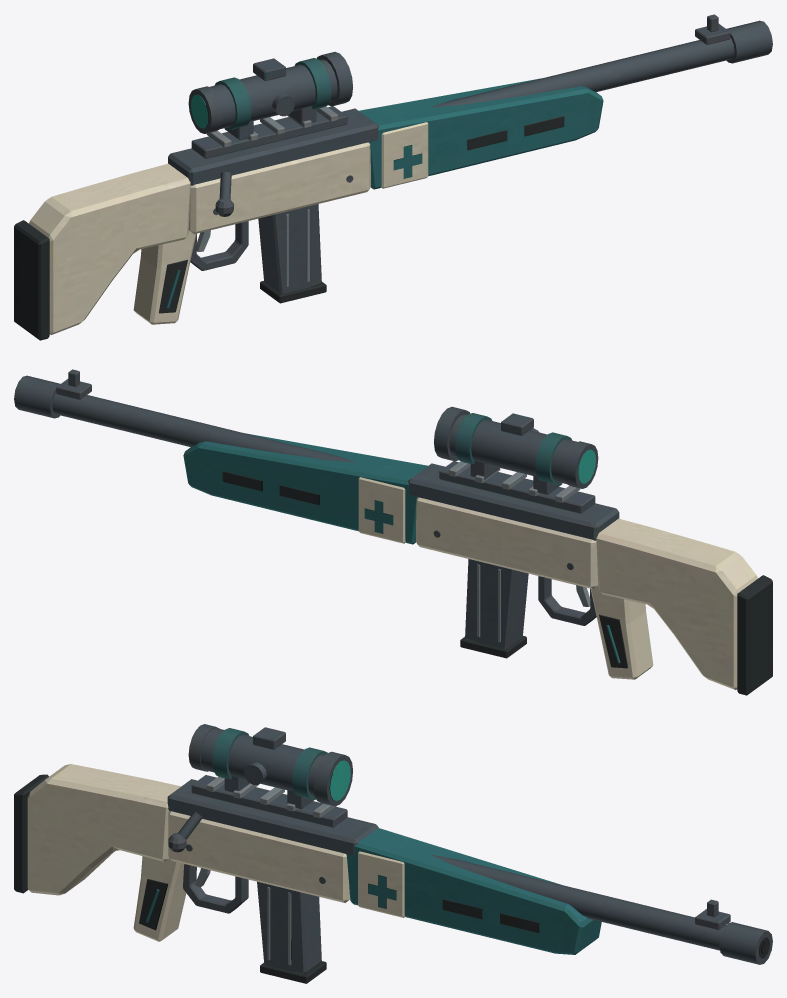
The model's file is security_rifle.glb.
3 views of the same model, one above another, from view 1: azimuth 30°, elevation 25°; view 2: azimuth 150°, elevation 25°; view 3: azimuth 330°, elevation 25° (orthographic).
Parts seen in each view (by area): view 1: SecurityRifle_Mesh; view 2: SecurityRifle_Mesh; view 3: SecurityRifle_Mesh.
Part boxes in pixels (left/top/right/bottom): SecurityRifle_Mesh: left=14, top=14, right=772, bottom=340; SecurityRifle_Mesh: left=14, top=369, right=772, bottom=695; SecurityRifle_Mesh: left=14, top=724, right=772, bottom=983.
Size of the model in its own units: 0.777 by 0.233 by 0.0769.
Materials: 2 (2 with a texture image).
